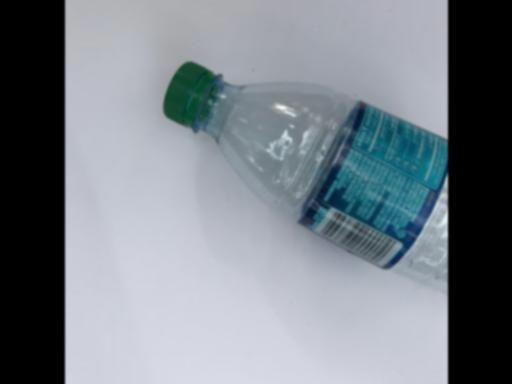PET: (162, 61, 448, 306)
plastic: (162, 61, 448, 306)
water: (162, 61, 448, 306)
